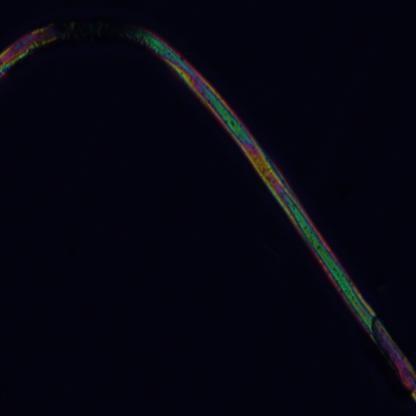Microfibre: (0, 12, 416, 398)
